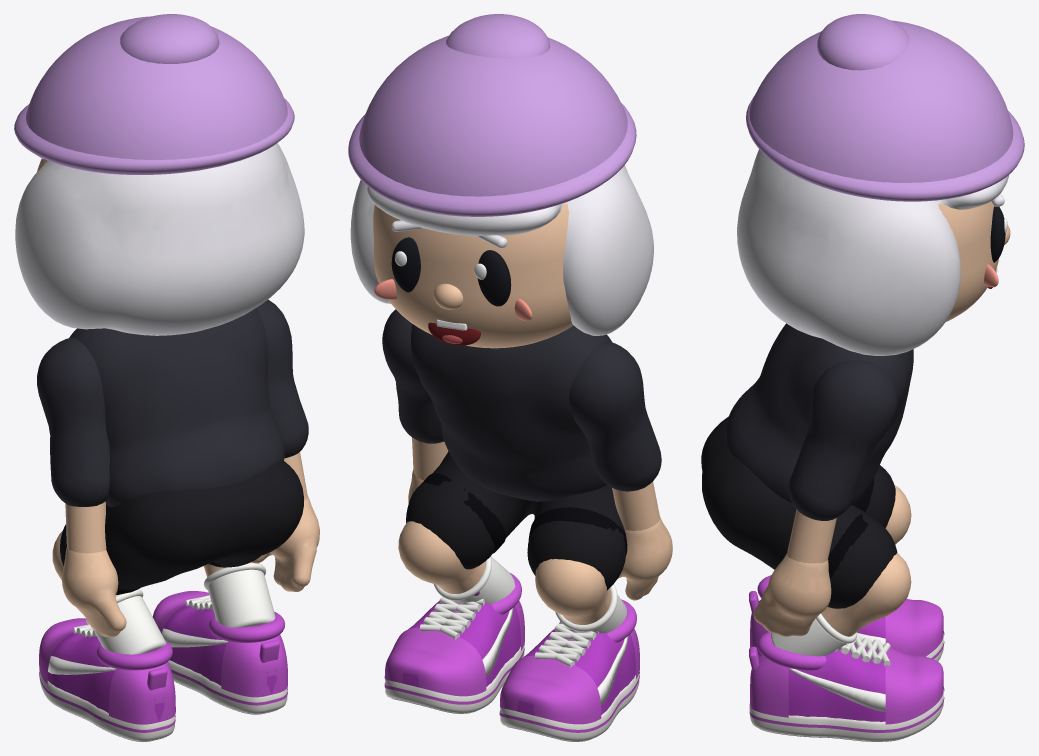
File: PurpleRider.fbx
3 renders of one model, left to right at view 1: azimuth 30°, elevation 25°; view 2: azimuth 150°, elevation 25°; view 3: azimuth 270°, elevation 25°, orthographic. The views are drawn at different scales.
Parts seen in each view (by area): view 1: HeadMesh, BodyMesh, ArmLMesh, LegRMesh, LegLMesh, ArmRMesh; view 2: HeadMesh, BodyMesh, LegLMesh, LegRMesh, ArmLMesh, ArmRMesh; view 3: HeadMesh, BodyMesh, LegRMesh, ArmRMesh, LegLMesh.
Boxes of the visible parts, left/top/right/bottom form: HeadMesh: left=14, top=14, right=304, bottom=335; BodyMesh: left=60, top=308, right=303, bottom=589; ArmLMesh: left=37, top=337, right=126, bottom=636; LegRMesh: left=152, top=562, right=287, bottom=714; LegLMesh: left=39, top=531, right=175, bottom=741; ArmRMesh: left=251, top=299, right=319, bottom=591; HeadMesh: left=348, top=14, right=653, bottom=348; BodyMesh: left=406, top=324, right=625, bottom=590; LegLMesh: left=499, top=507, right=639, bottom=741; LegRMesh: left=384, top=473, right=524, bottom=713; ArmLMesh: left=569, top=341, right=672, bottom=600; ArmRMesh: left=382, top=309, right=448, bottom=503; HeadMesh: left=737, top=14, right=1024, bottom=355; BodyMesh: left=701, top=323, right=913, bottom=608; LegRMesh: left=749, top=514, right=944, bottom=741; ArmRMesh: left=753, top=360, right=897, bottom=636; LegLMesh: left=749, top=478, right=944, bottom=664.
Size of the model in its own units: 0.5454 by 1.35 by 0.5851.
